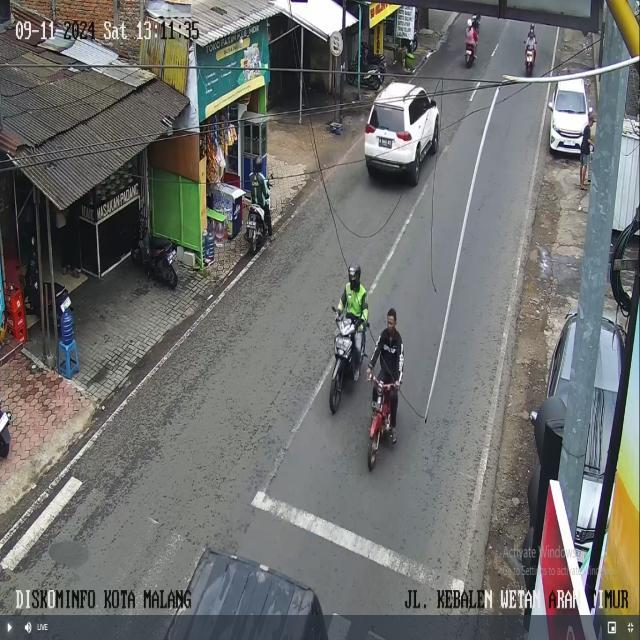Helmet: (348, 263, 360, 289), (253, 158, 262, 173), (467, 19, 472, 27)
Number Plate: (60, 296, 70, 311), (167, 251, 177, 264), (379, 137, 391, 147), (247, 220, 256, 228)
Rearview Mirror: (547, 101, 552, 109)
